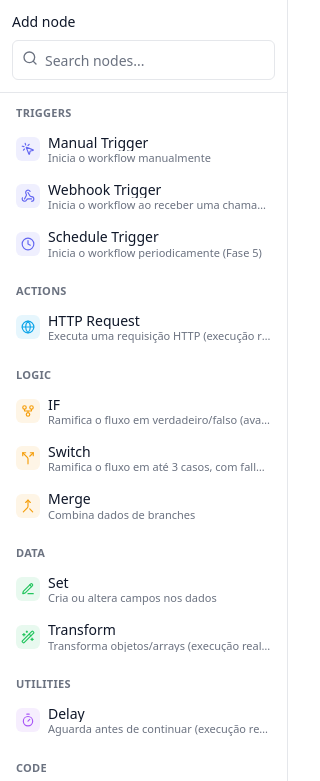
<NodeLibrary /> › mostra a mensagem de lista vazia so quando a busca de fato nao casa
Type "zzzzzzzz" into the field with placeholder "Search nodes..." at point(144, 60), box 12,40 -> 275,80
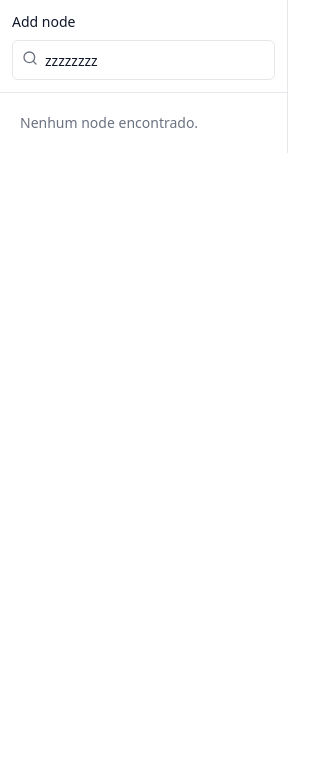
Expected: the text "Nenhum node encontrado." is shown, 20,113 -> 198,132
